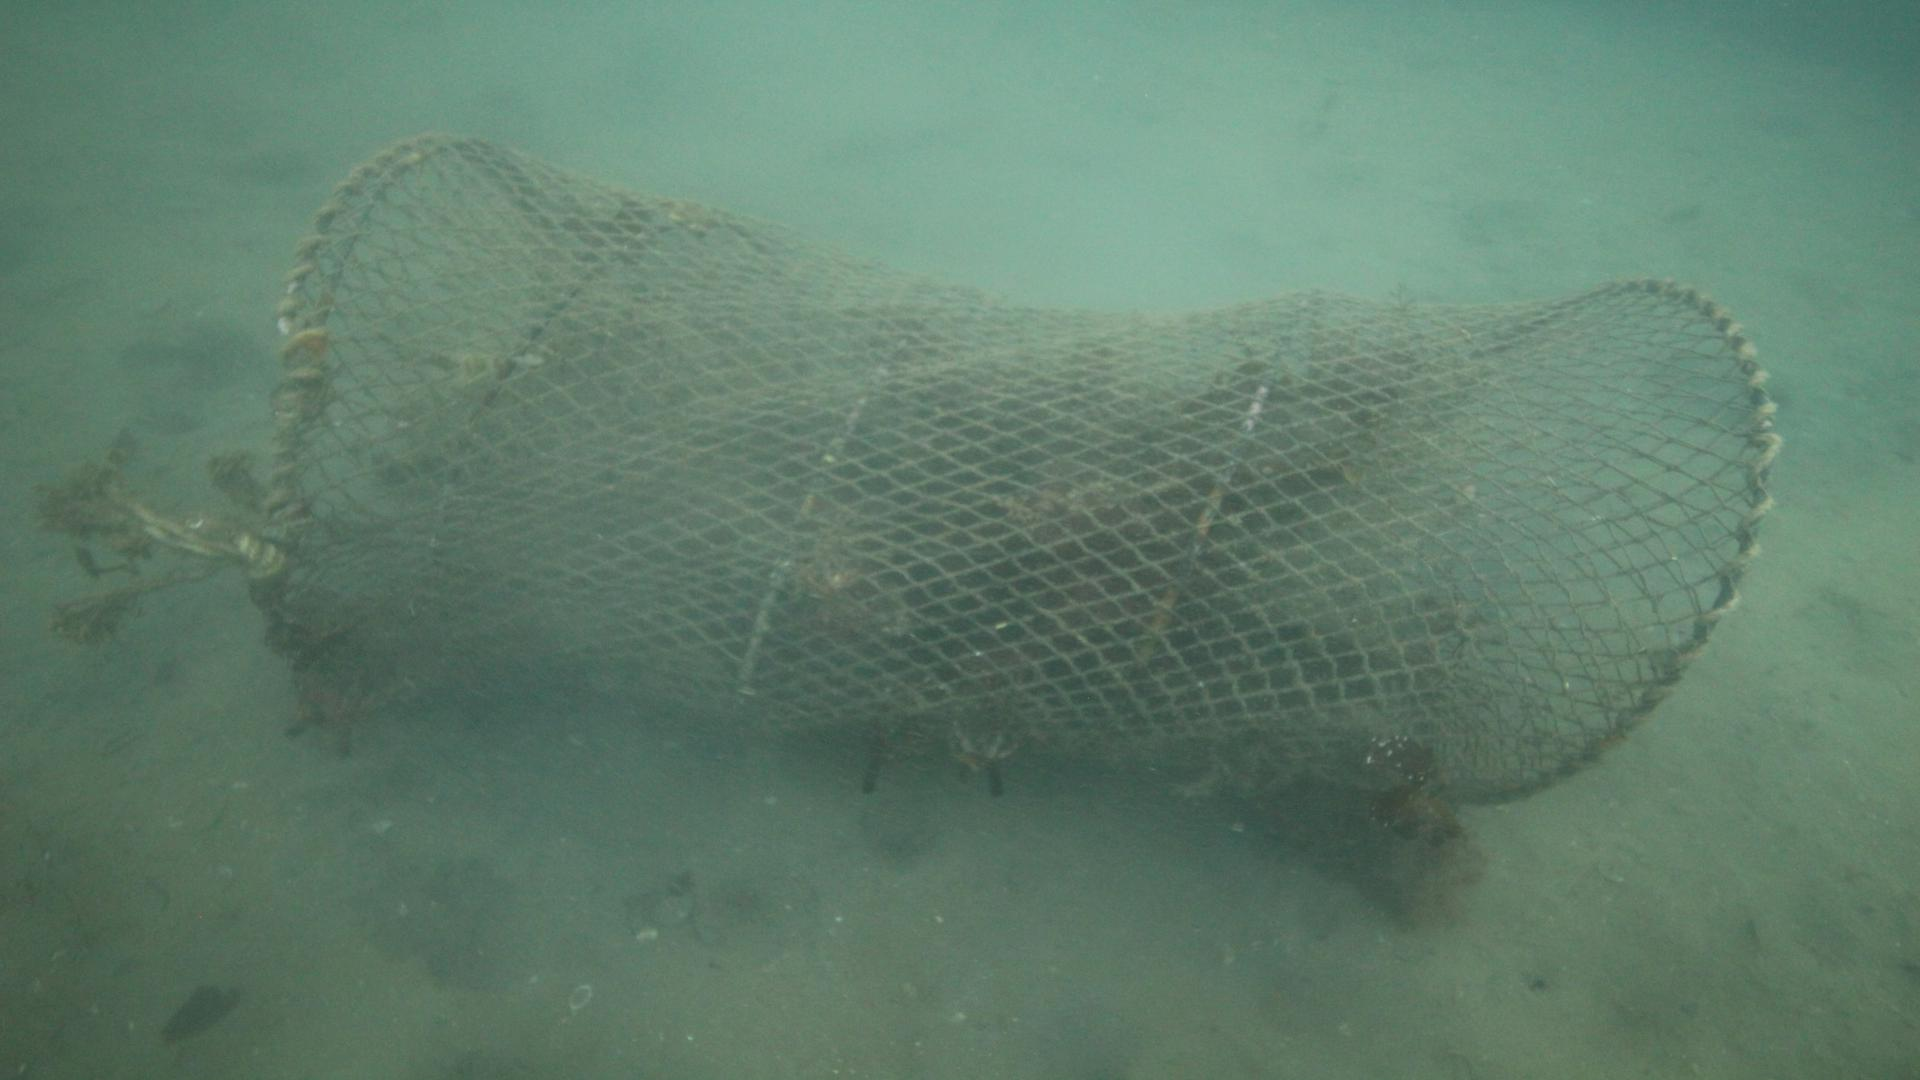spring fish trap: (264, 131, 1782, 804)
